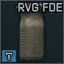Magpul RVG foregrip: (0, 0, 64, 64)
